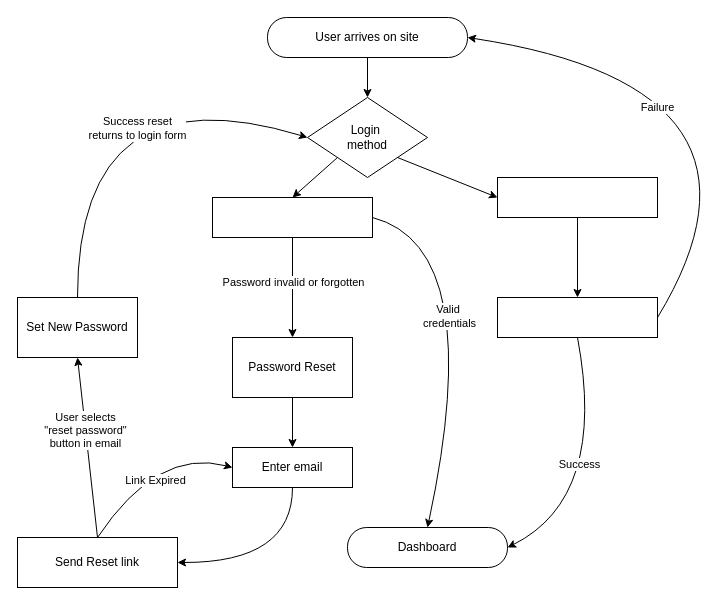
Some shapes in this 718 by 605 pixel diagram are drawn without their labels. Here are the shapes that lost their labels. From the top down, the centre of each, then its label:
At pixel 292 217: "User enters credentials (username/password)".
At pixel 577 197: "Select OAuth Provider".
At pixel 577 317: "Authenticate with Provider".
